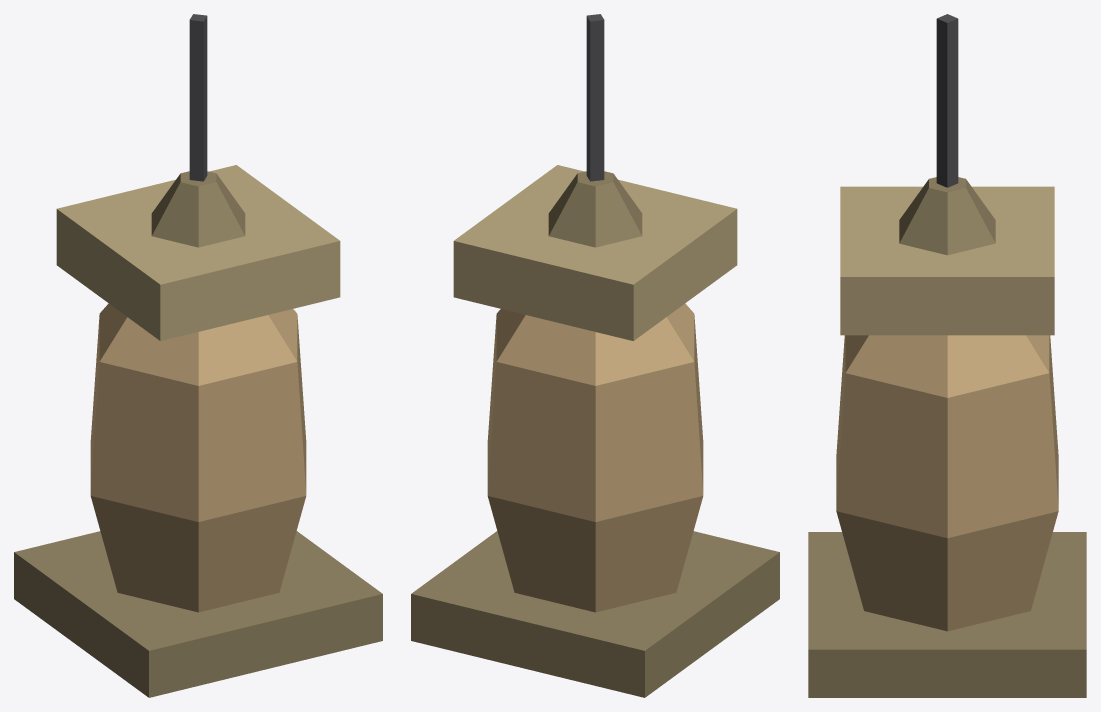
Rendered from hang_lamp.glb.
3 renders of one model, left to right at view 1: azimuth 30°, elevation 25°; view 2: azimuth 150°, elevation 25°; view 3: azimuth 270°, elevation 25°, orthographic. The views are drawn at different scales.
Visible parts, largest first — view 1: hang_lamp; view 2: hang_lamp; view 3: hang_lamp.
Boxes of the visible parts, bbox=[...] form: hang_lamp: bbox=[14, 14, 382, 697]; hang_lamp: bbox=[411, 14, 779, 697]; hang_lamp: bbox=[808, 14, 1086, 697].
Size of the model in its own units: 0.13 by 0.32 by 0.13.
